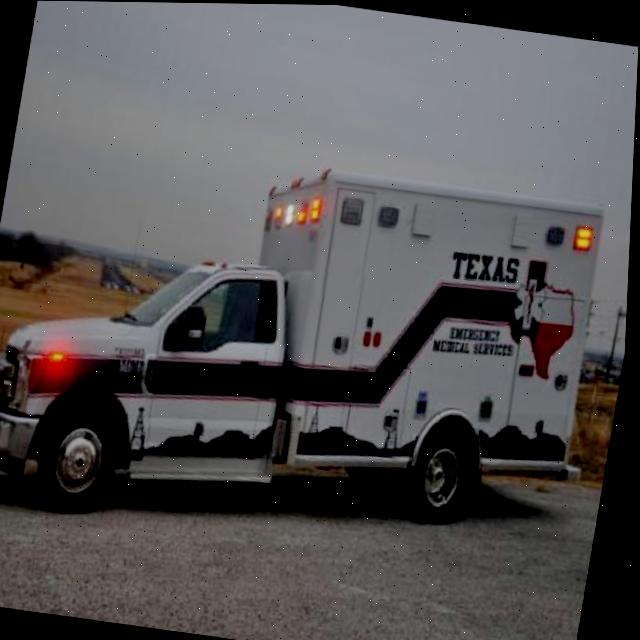emergency: (0, 123, 627, 576)
